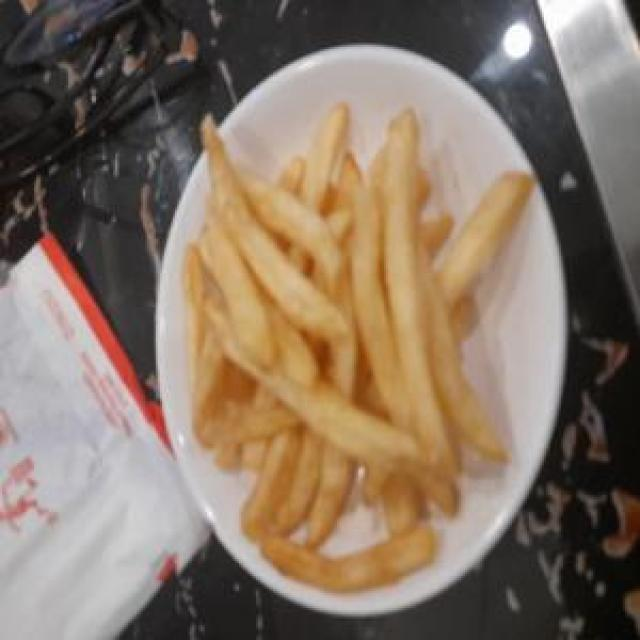French Fries: (164, 87, 595, 632)
